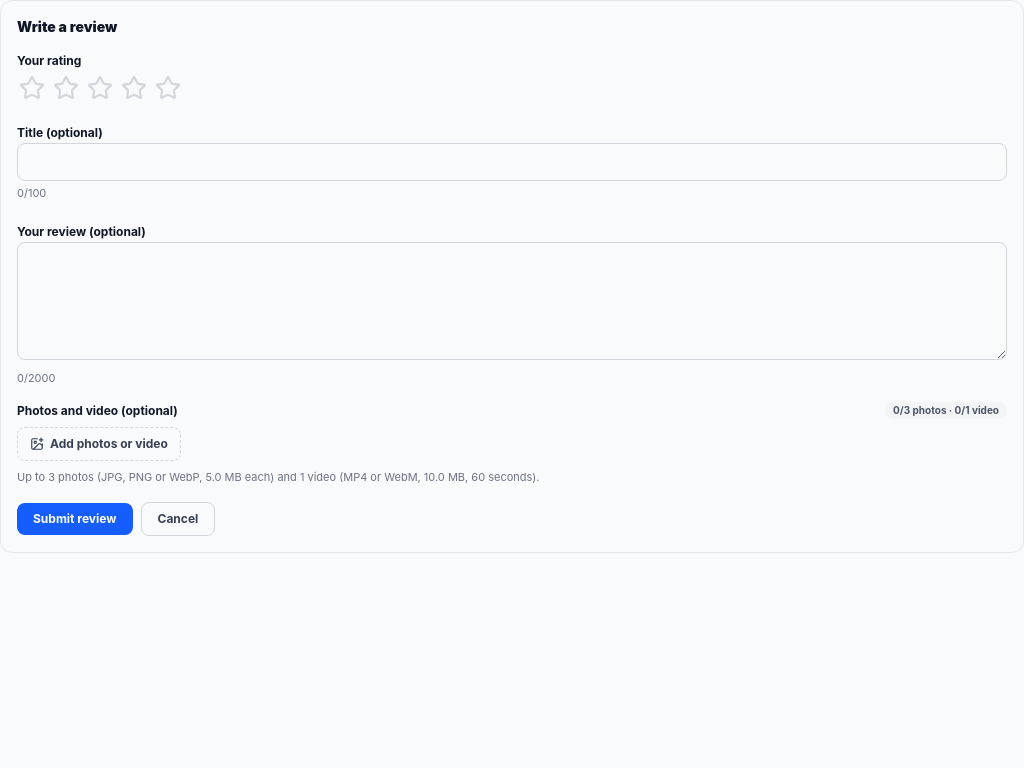
Test: ReviewForm: a new review › shows the plain-words error when the server refuses, and lets the customer try again
Click the radio button named "5 stars".
click(168, 88)  # box top-left (153, 73), bottom-right (183, 103)
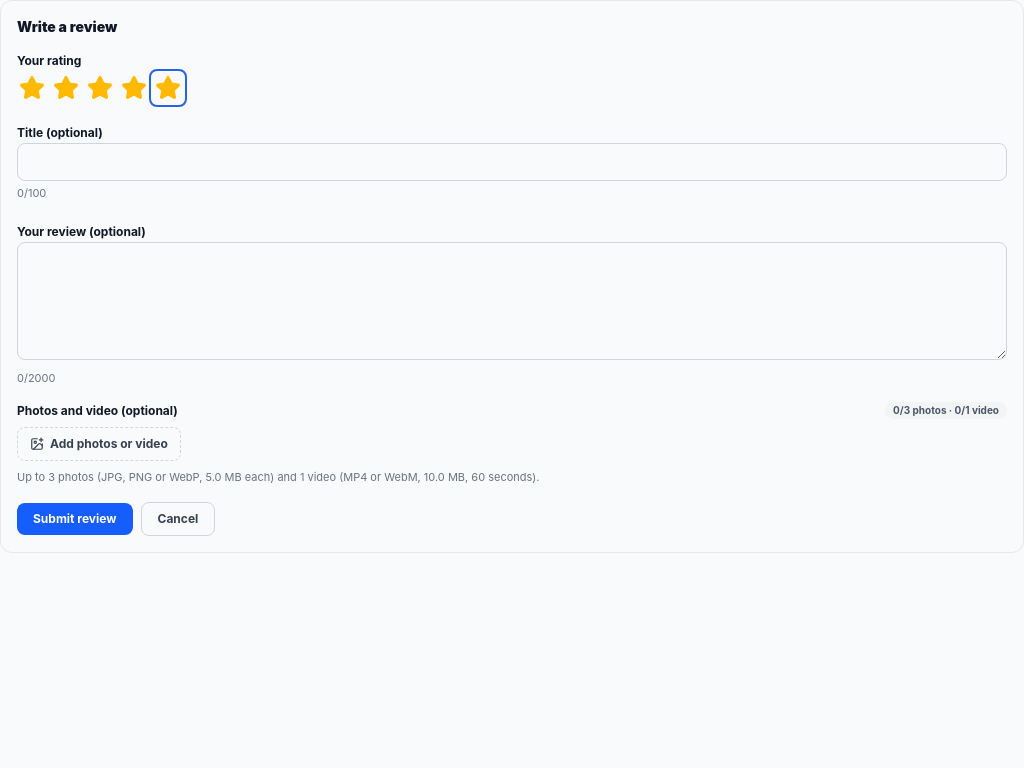
Click the button "Submit review".
click(75, 519)  # box top-left (17, 503), bottom-right (132, 535)
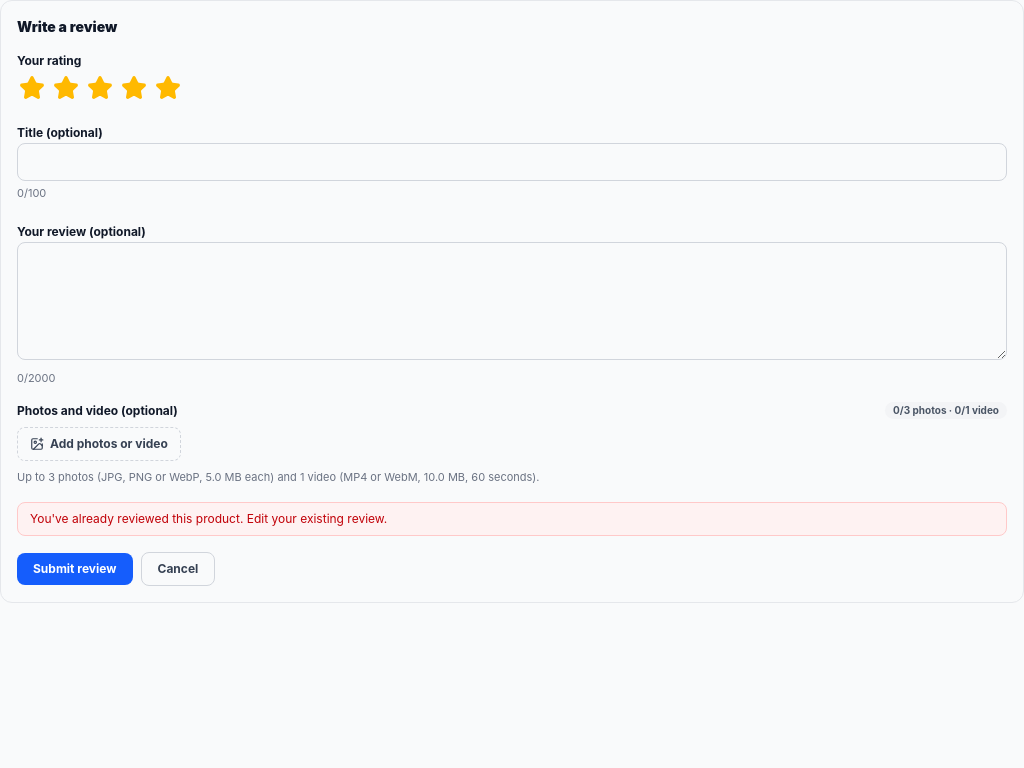
expect the button "Submit review" is enabled: met, box top-left (17, 553), bottom-right (132, 585)
expect the text "You've already reviewed this product. Edit your existing review." is shown: met, box top-left (17, 502), bottom-right (1007, 536)
